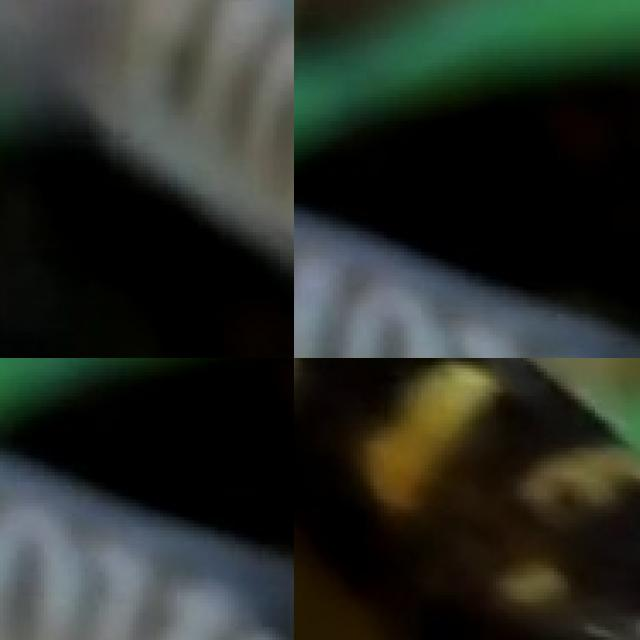fish: (0, 0, 294, 358), (294, 358, 640, 640), (0, 393, 294, 640)
